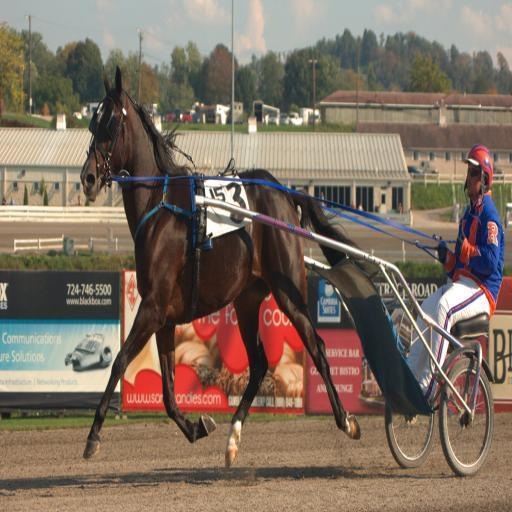horse: (81, 64, 368, 472)
